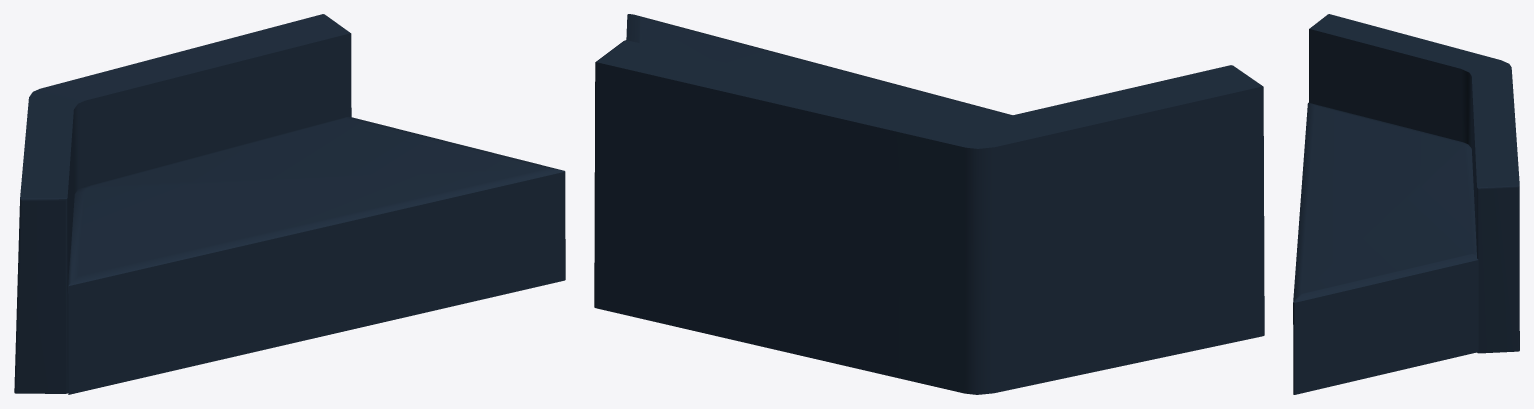
File: canap_tri2.fbx
The picture shows the model from 3 angles, left to right: view 1: azimuth 30°, elevation 25°; view 2: azimuth 150°, elevation 25°; view 3: azimuth 270°, elevation 25°; orthographic projection. The views are drawn at different scales.
Visible parts, largest first — view 1: canap_tri2; view 2: canap_tri2; view 3: canap_tri2.
Part boxes in pixels (x1,y1,x2,y2): canap_tri2: (14, 14, 565, 394); canap_tri2: (594, 14, 1264, 394); canap_tri2: (1293, 14, 1519, 394).
Bounding box in the file's own units: 284 × 101 × 125.
